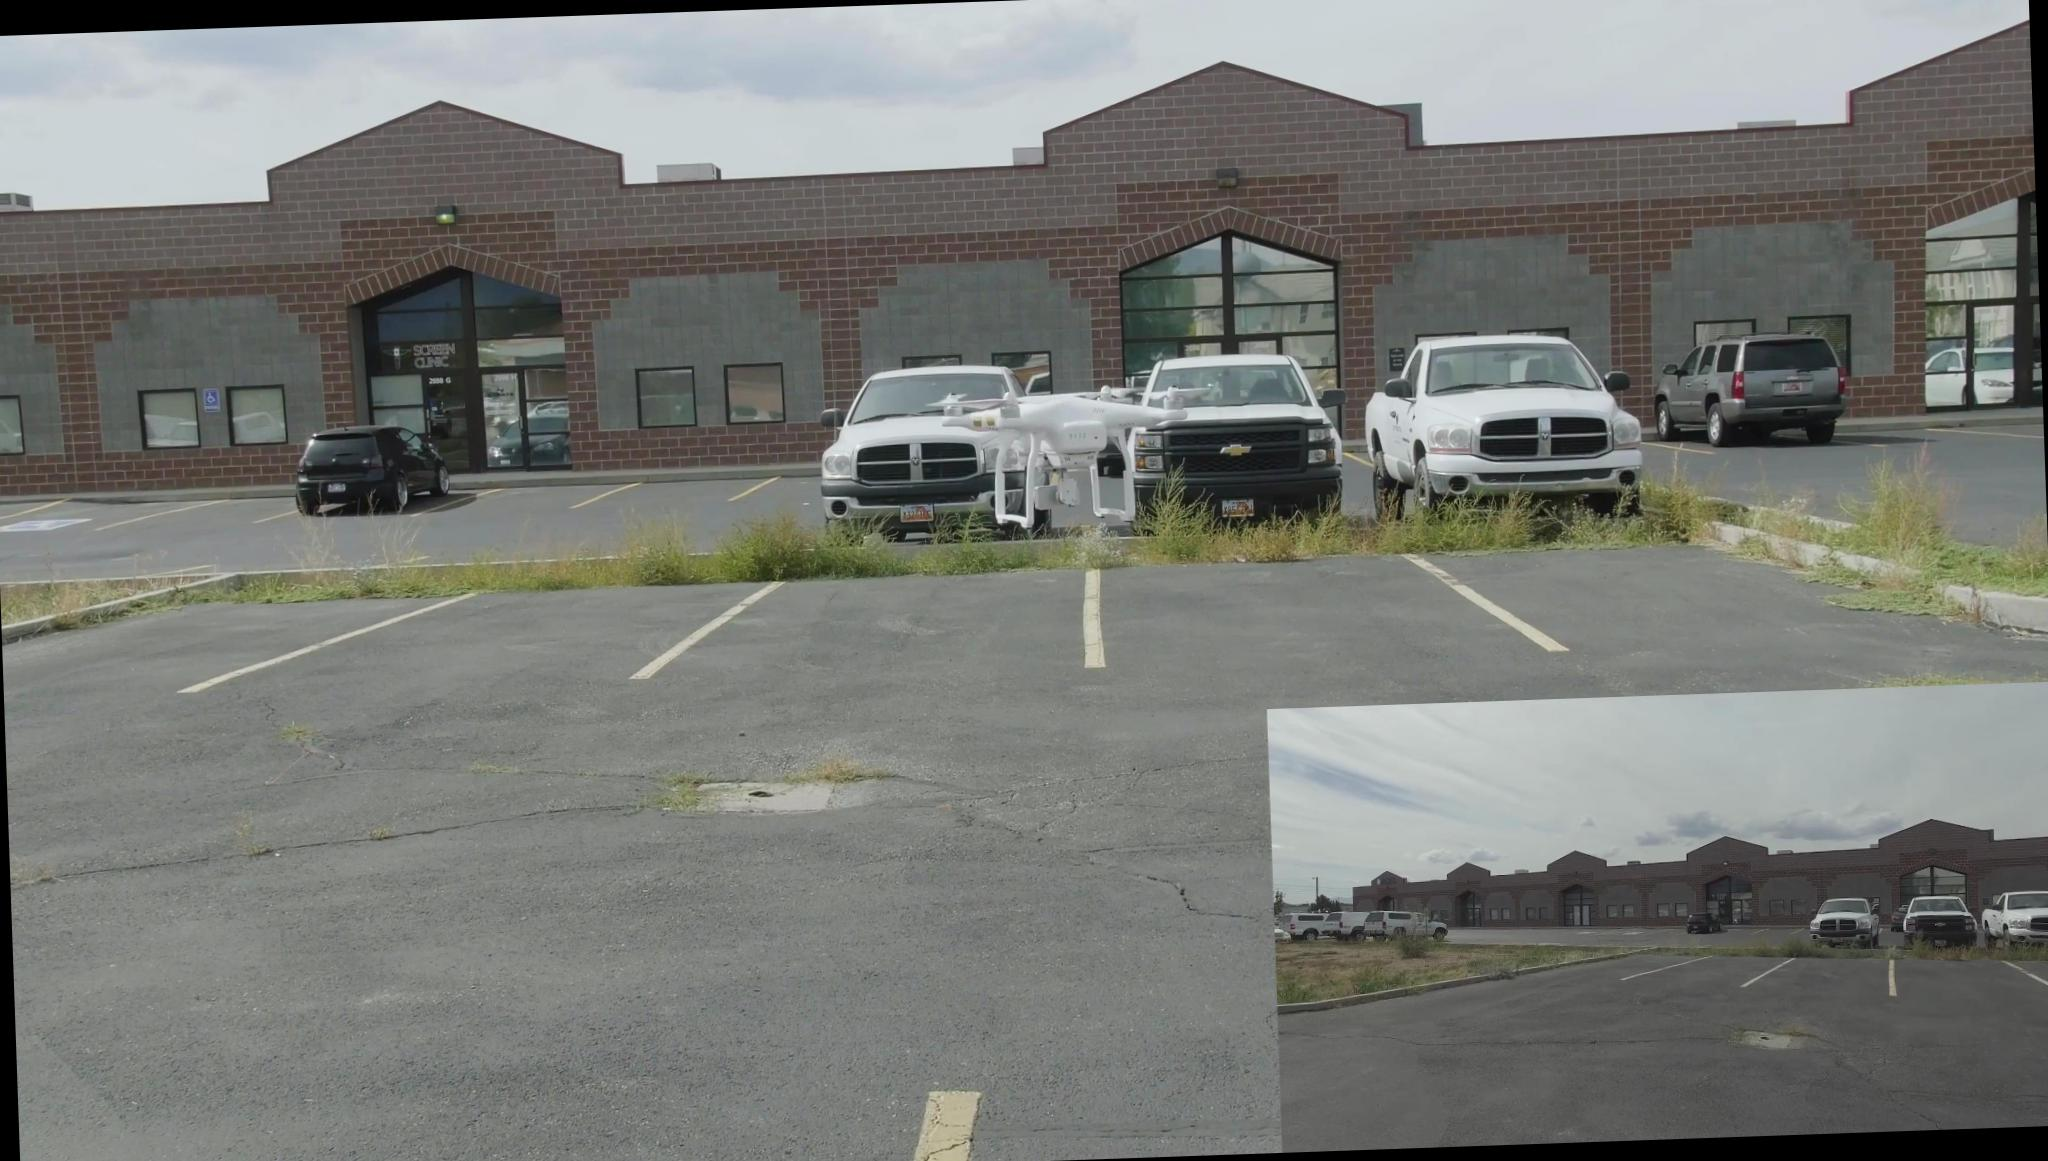drone: (933, 376, 1198, 529)
